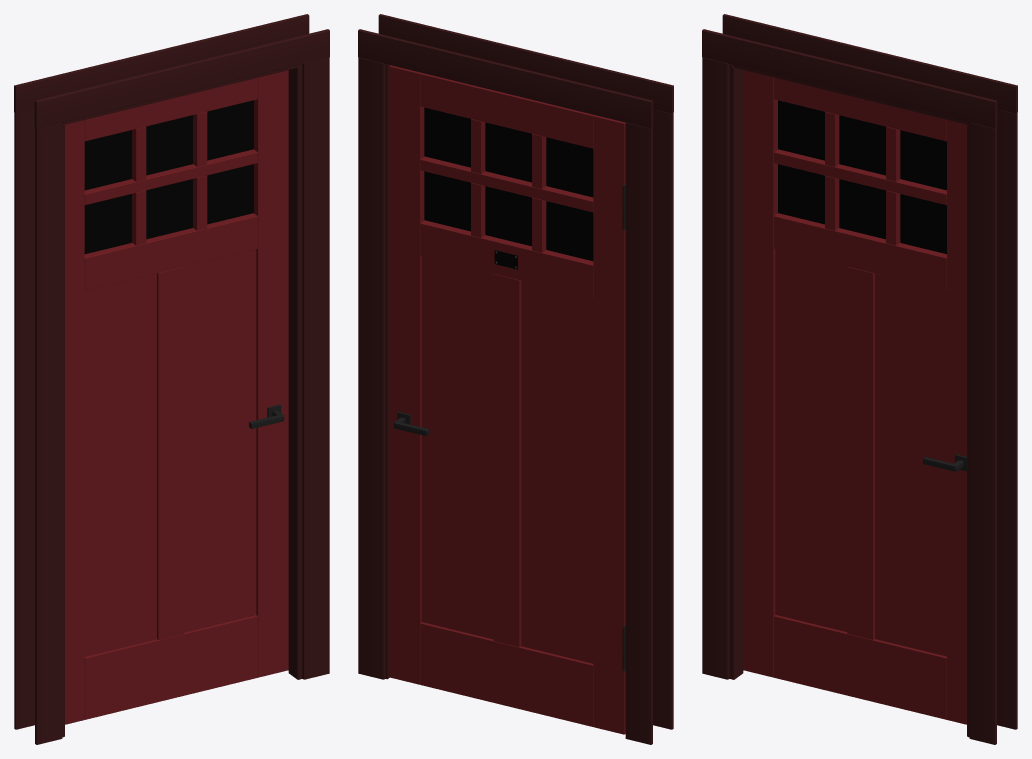
The model's file is Shaker door 1.FBX.
The picture shows the model from 3 angles, left to right: view 1: azimuth 30°, elevation 25°; view 2: azimuth 150°, elevation 25°; view 3: azimuth 330°, elevation 25°; orthographic projection.
Parts seen in each view (by area): view 1: Shaker door 1, Shaker door 1 box; view 2: Shaker door 1, Shaker door 1 box; view 3: Shaker door 1, Shaker door 1 box.
Boxes of the visible parts, left/top/right/bottom form: Shaker door 1: left=64, top=70, right=288, bottom=724; Shaker door 1 box: left=14, top=14, right=329, bottom=744; Shaker door 1: left=389, top=65, right=625, bottom=734; Shaker door 1 box: left=358, top=14, right=673, bottom=744; Shaker door 1: left=743, top=70, right=967, bottom=724; Shaker door 1 box: left=702, top=14, right=1017, bottom=744.
Size of the model in its own units: 44.31 by 92.94 by 7.72.
